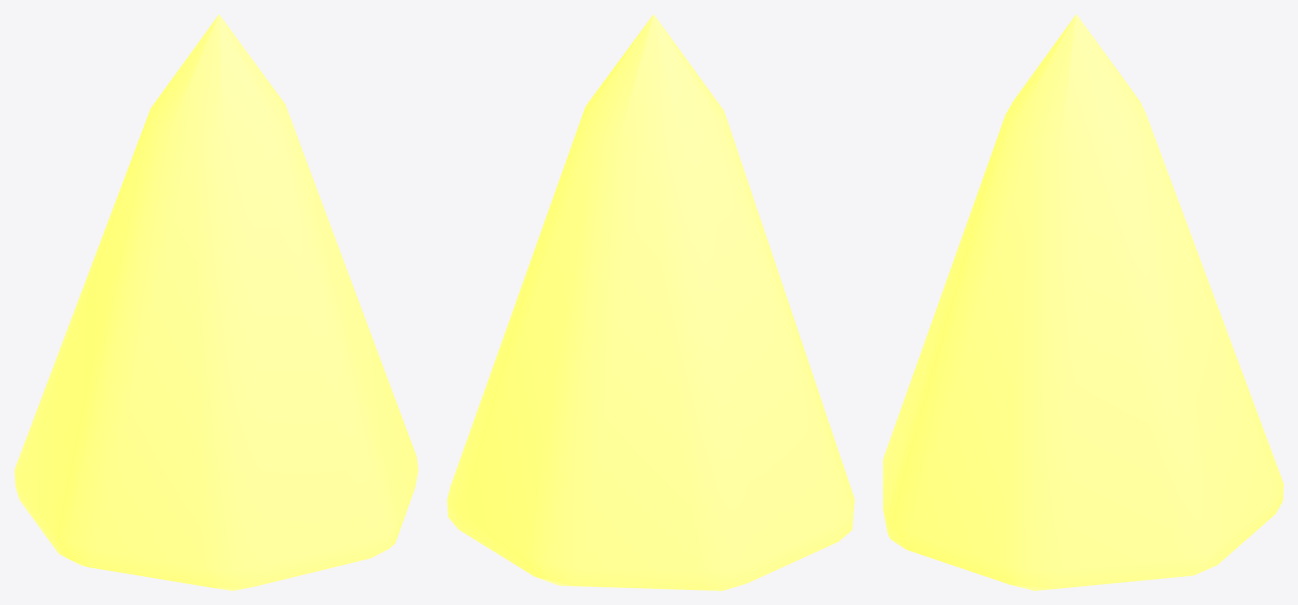
The model's file is fx_flame_core.glb.
3 renders of one model, left to right at view 1: azimuth 30°, elevation 25°; view 2: azimuth 150°, elevation 25°; view 3: azimuth 270°, elevation 25°, orthographic.
Parts seen in each view (by area): view 1: fx_flame_core; view 2: fx_flame_core; view 3: fx_flame_core.
Part boxes in pixels (bbox=[...]): fx_flame_core: bbox=[14, 14, 418, 590]; fx_flame_core: bbox=[447, 14, 854, 590]; fx_flame_core: bbox=[883, 14, 1283, 590].
Bounding box in the file's own units: 0.1796 × 0.2445 × 0.1779.
